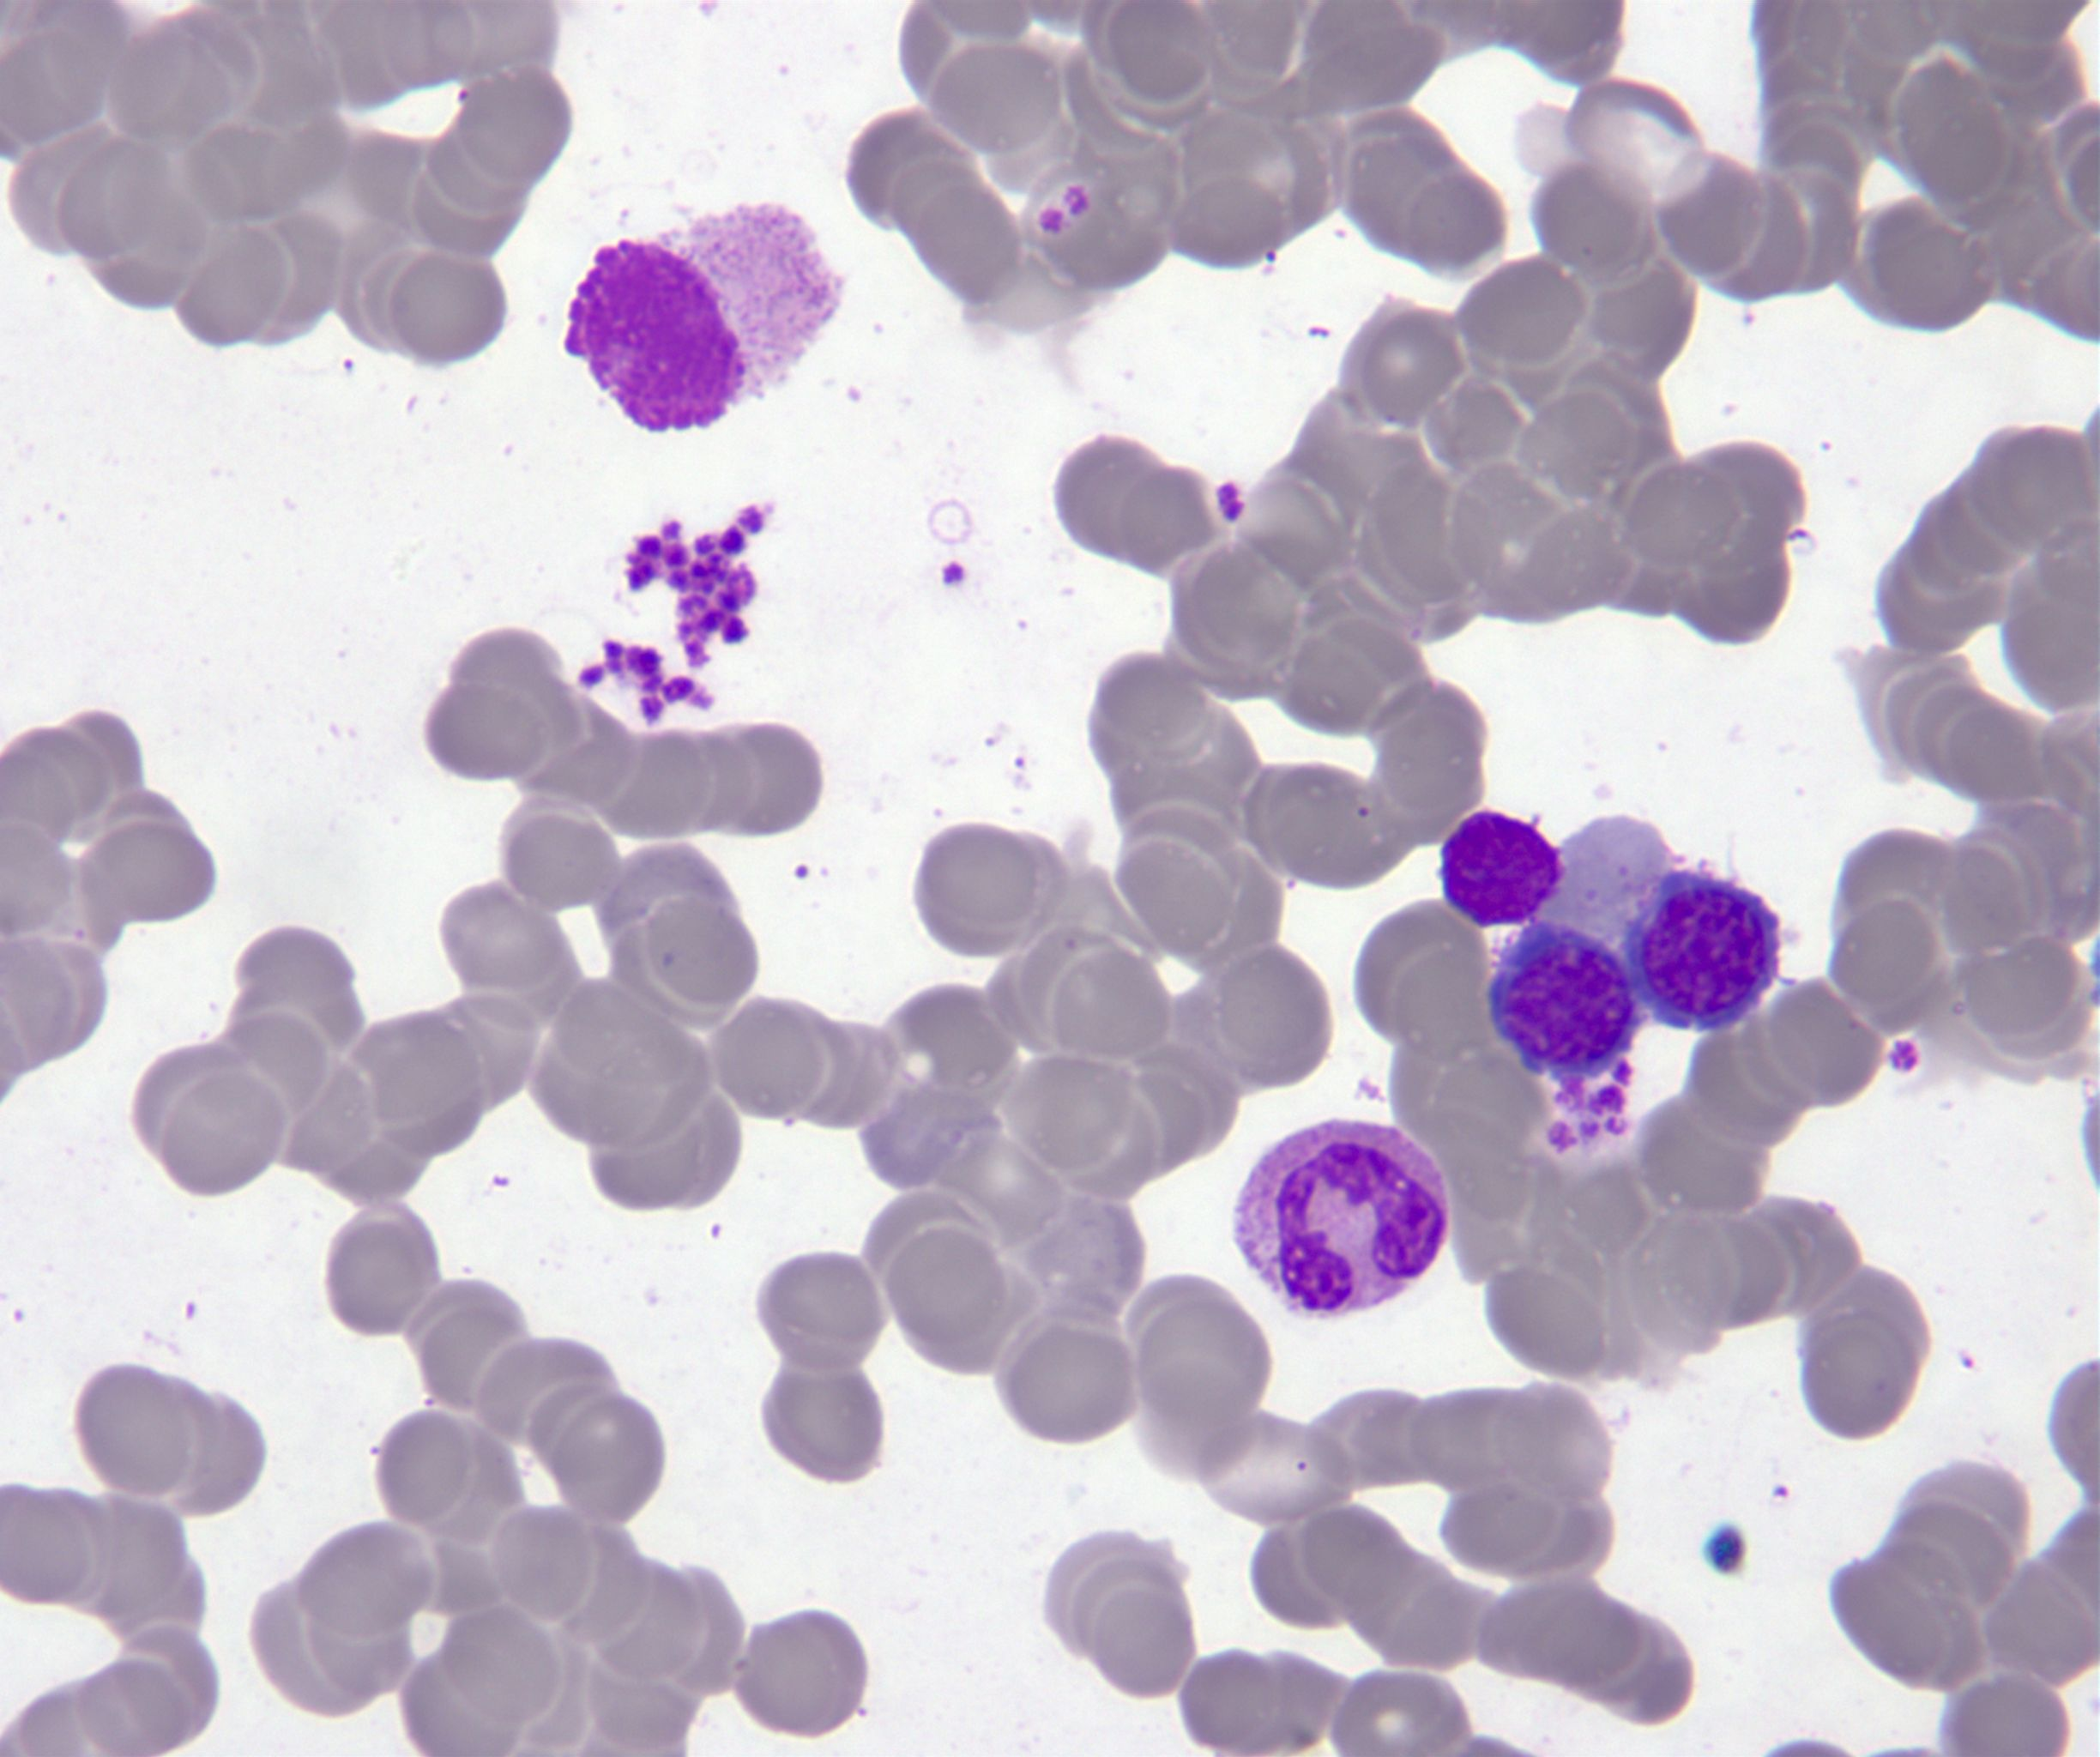23: (1613, 867, 1786, 1035), (1484, 921, 1647, 1082)
5: (1223, 1111, 1456, 1326)
x: (1435, 804, 1572, 933)
